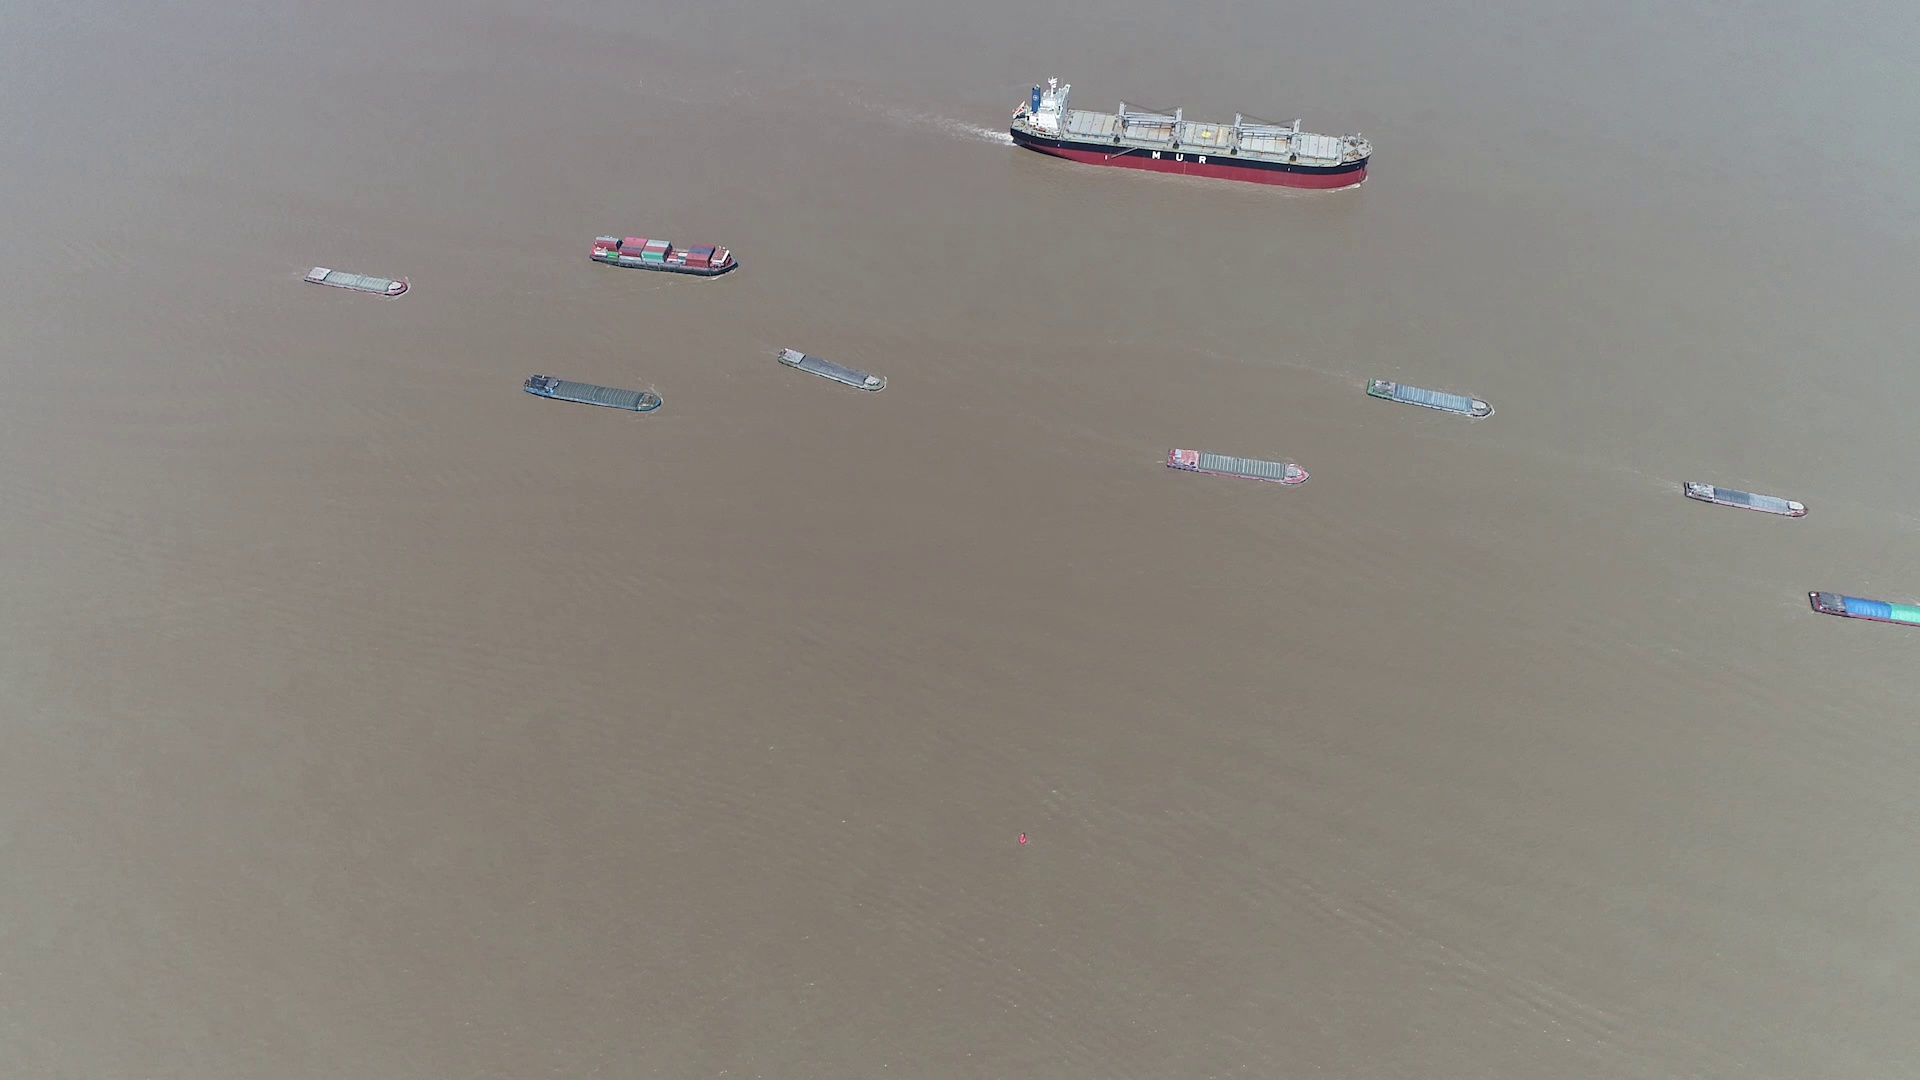ship: (1011, 80, 1369, 186), (589, 233, 742, 274), (521, 375, 666, 415), (1164, 446, 1311, 485), (1366, 376, 1494, 419), (775, 348, 886, 394), (1680, 480, 1808, 520), (1809, 591, 1920, 626), (303, 264, 407, 295)
